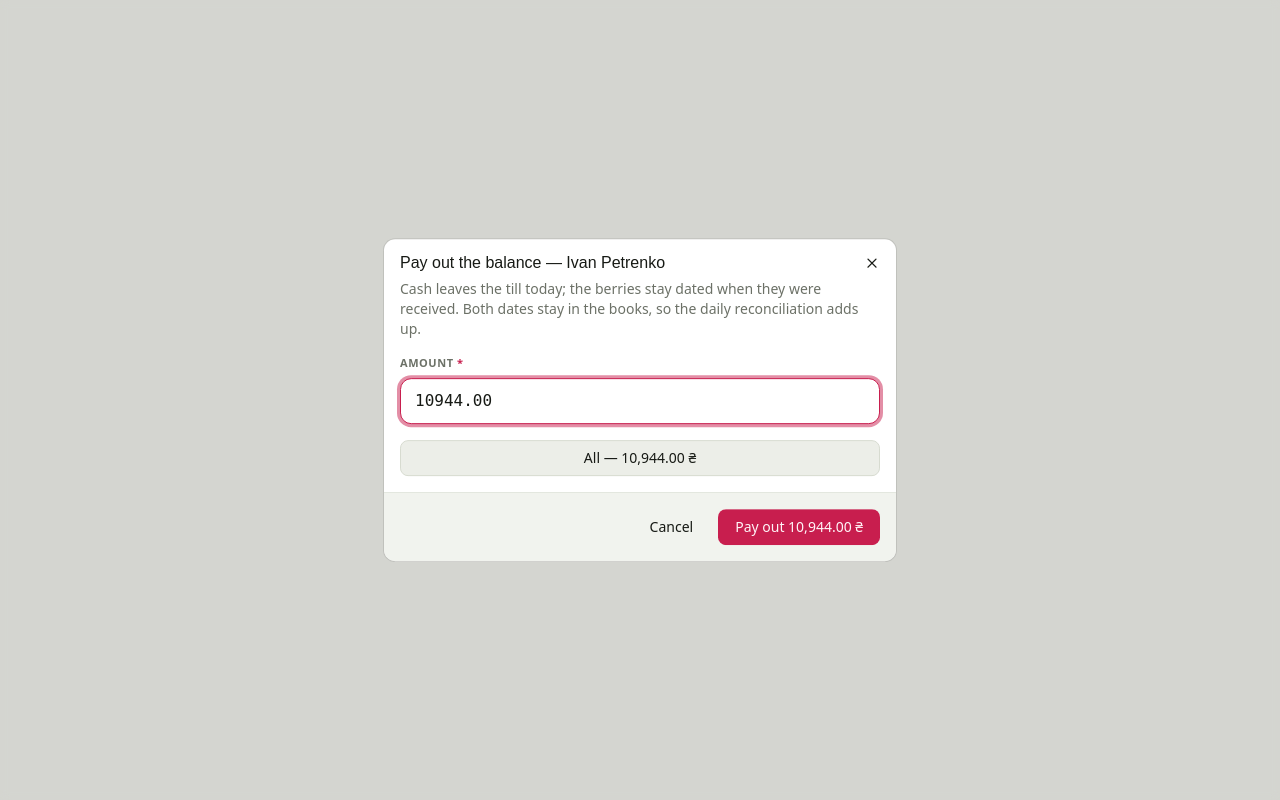
PayoutDialog › renders the exact submit-label with formatted amount
Replace the text in the field labelled "Amount" with "4000" at x=640, y=401, box [400,378,880,424]
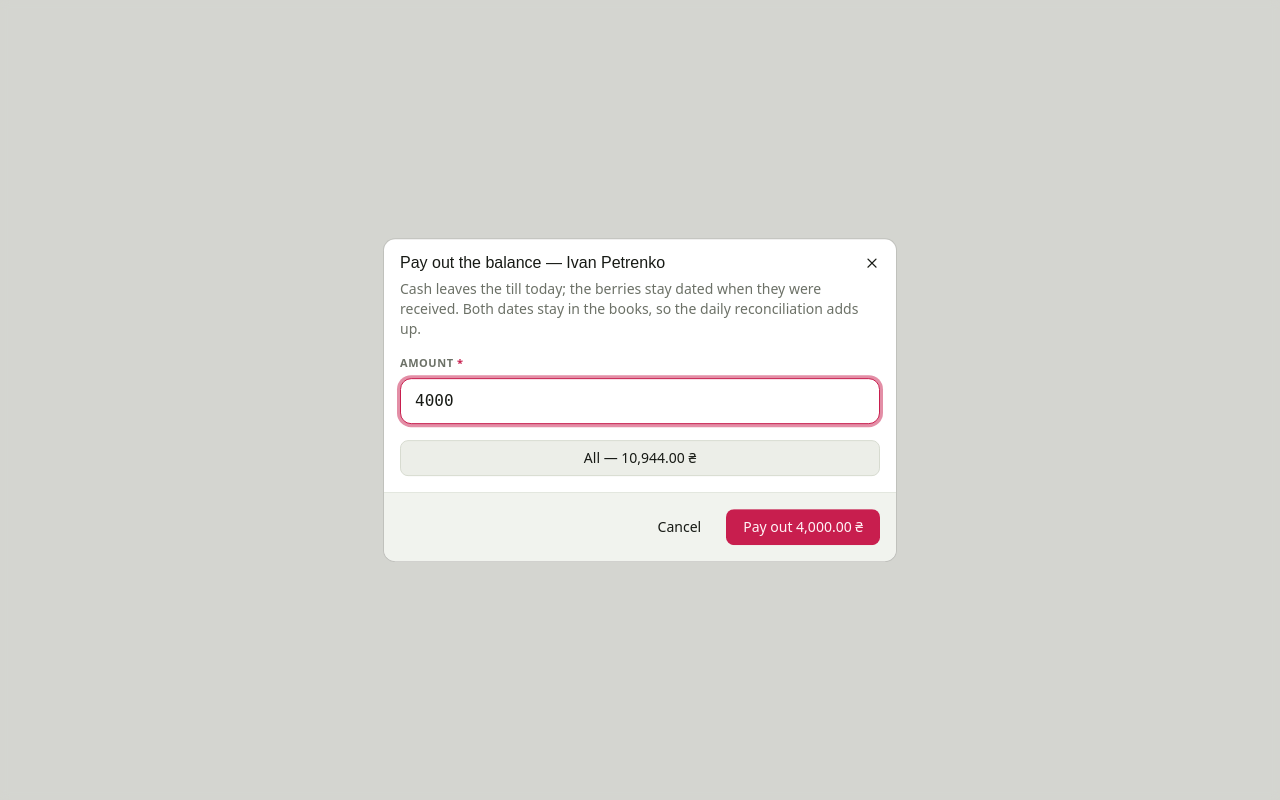
Now the button "Pay out 4,000.00 ₴" is shown, box [726,509,880,545]
